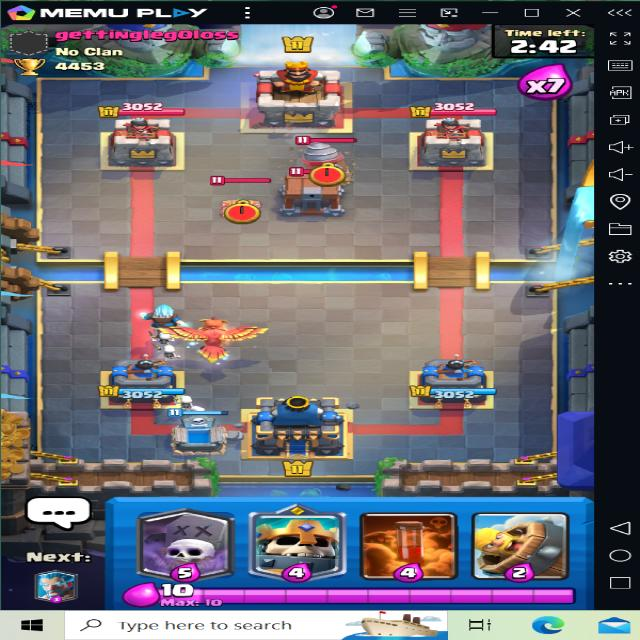goblin-cage: (273, 167, 347, 216)
goblin-drill: (294, 132, 359, 182)
tesla-closed: (202, 178, 270, 228)
